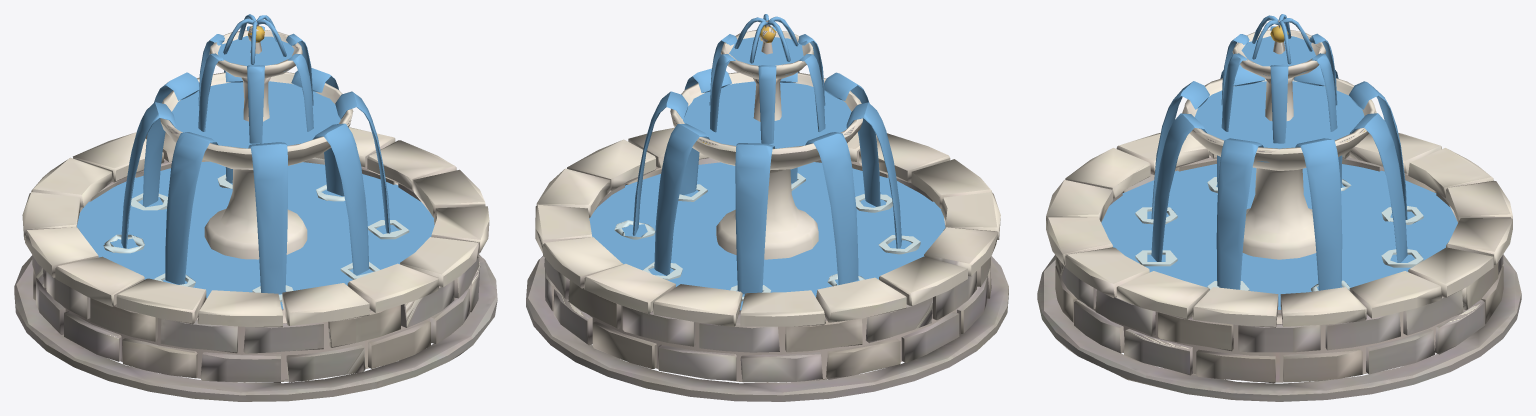
The model's file is fountain.glb.
3 renders of one model, left to right at view 1: azimuth 30°, elevation 25°; view 2: azimuth 150°, elevation 25°; view 3: azimuth 270°, elevation 25°, orthographic.
Visible parts, largest first — view 1: fountain_body, fountain_water; view 2: fountain_body, fountain_water; view 3: fountain_body, fountain_water.
Part boxes in pixels (x1=…): fountain_body: x1=14, y1=20, x2=497, y2=401; fountain_water: x1=77, y1=14, x2=434, y2=309; fountain_body: x1=526, y1=20, x2=1008, y2=401; fountain_water: x1=589, y1=14, x2=945, y2=310; fountain_body: x1=1037, y1=20, x2=1521, y2=401; fountain_water: x1=1101, y1=14, x2=1457, y2=309.
Bounding box in the file's own units: 3.38 × 2.18 × 3.38.
3 materials, 1 textured.
